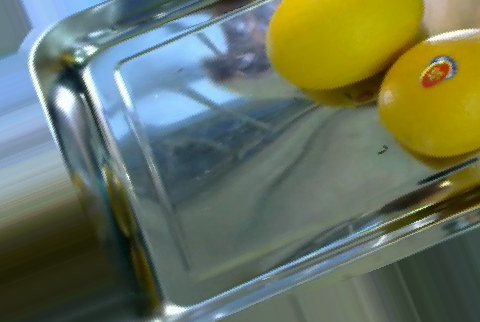Orange: (262, 1, 427, 88), (378, 25, 480, 156)
